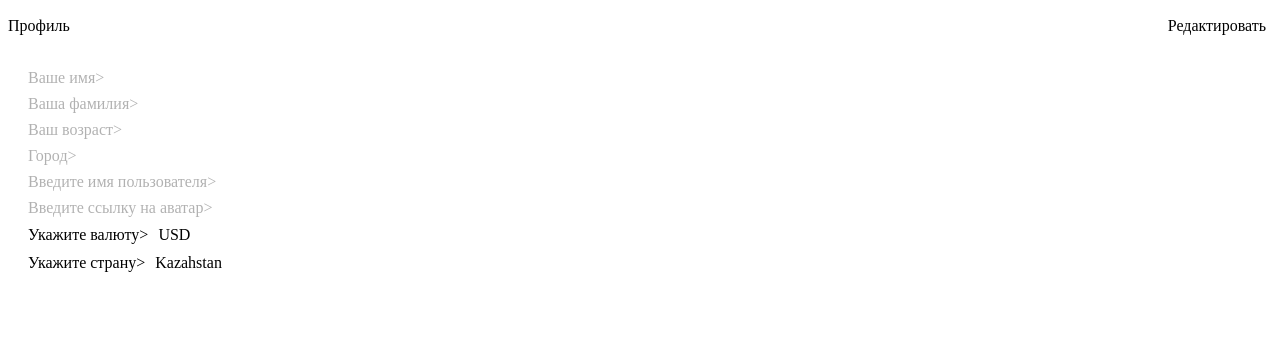
Test: EditableProfileCardHeader › при ошибке валидации не сохраняет и остаётся в редактировании
Click the button with test id "EditableProfileCardHeader.EditButton" at (1217, 26), box [1162,16,1272,36]
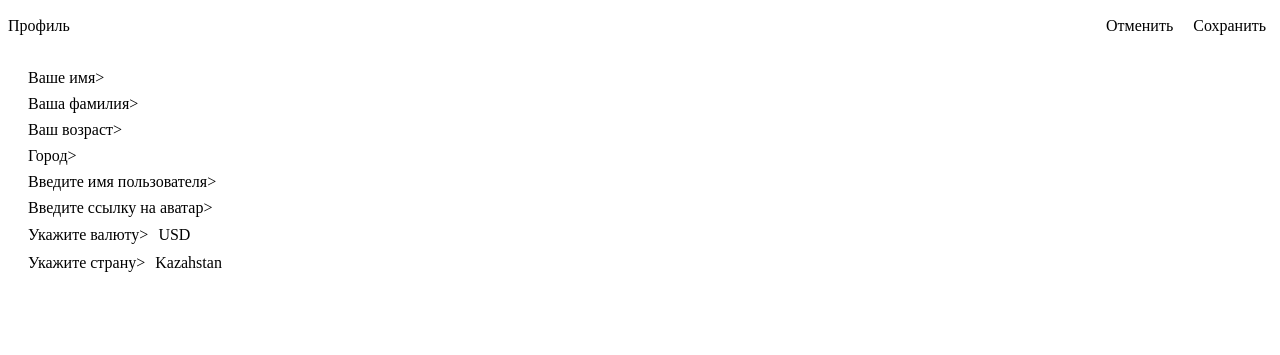
Click the button with test id "EditableProfileCardHeader.SaveButton" at (1230, 26), box [1187,16,1272,36]
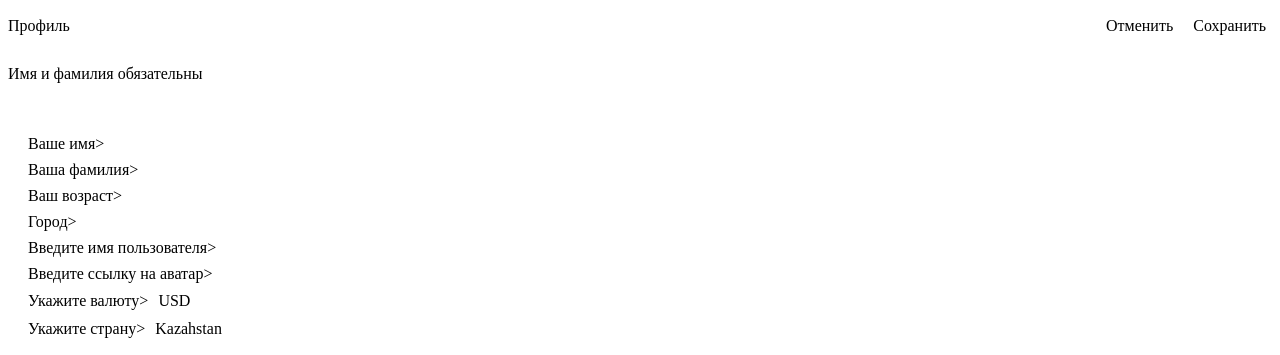
Check: the button with test id "EditableProfileCardHeader.SaveButton" is shown, box [1187,16,1272,36]
Check: the text with test id "EditableProfileCard.Error.Paragraph" reads "Имя и фамилия обязательны", box [8,64,202,82]
